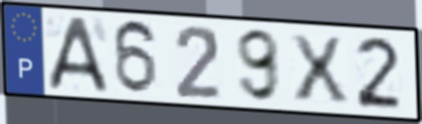2: (352, 35, 407, 113), (172, 23, 224, 102)
6: (111, 17, 164, 98)
9: (232, 27, 283, 104)
A: (45, 15, 112, 93)
X: (286, 32, 352, 104)
